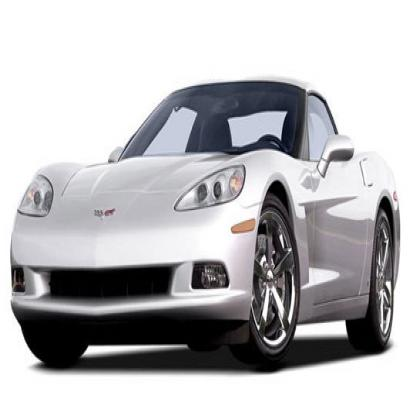car: (11, 83, 402, 375)
